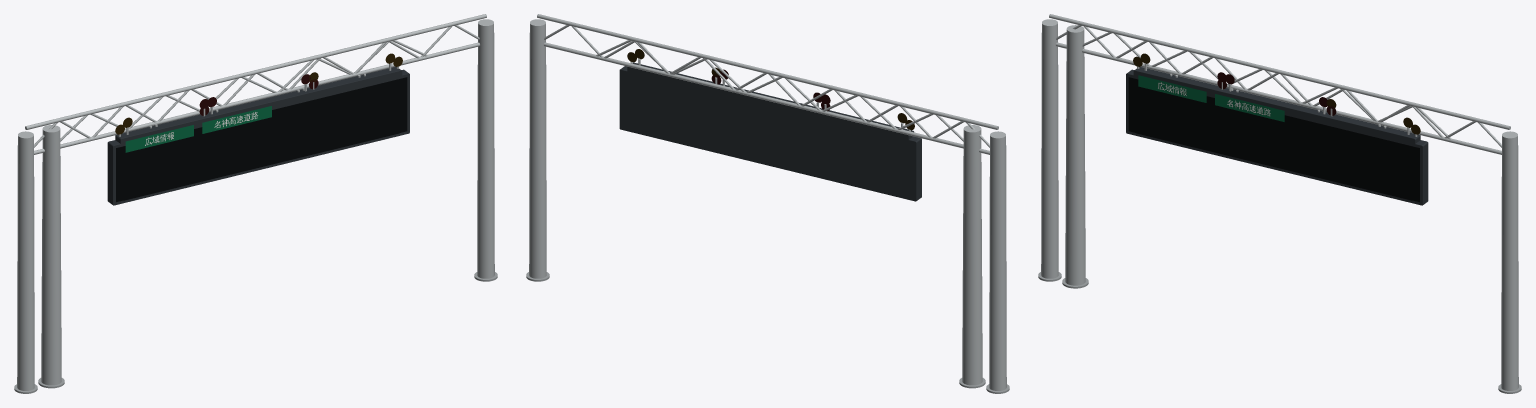
The picture shows the model from 3 angles, left to right: view 1: azimuth 30°, elevation 25°; view 2: azimuth 150°, elevation 25°; view 3: azimuth 330°, elevation 25°; orthographic projection.
Visible parts, largest first — view 1: opt_support_gantry, opt_support_cantilever, lamp_disp_accident_c, opt_size_k, lamp_disp_accident_k, lamp_disp_accident_a, lamp_disp_accident_b, opt_size_c, lamp_disp_accident_d, opt_size_b, opt_size_d; view 2: opt_size_k, opt_support_gantry, opt_support_cantilever, opt_size_c; view 3: opt_support_gantry, lamp_disp_accident_k, opt_support_cantilever, lamp_disp_accident_c, opt_size_k, lamp_disp_accident_a, lamp_disp_accident_b, opt_size_c, opt_size_b, lamp_disp_accident_d, opt_size_d.
Part boxes in pixels (x1=…): opt_support_gantry: x1=14, y1=14, x2=497, y2=393; opt_support_cantilever: x1=38, y1=28, x2=429, y2=388; lamp_disp_accident_c: x1=116, y1=77, x2=407, y2=202; opt_size_k: x1=115, y1=63, x2=402, y2=203; lamp_disp_accident_k: x1=123, y1=115, x2=399, y2=200; lamp_disp_accident_a: x1=200, y1=107, x2=322, y2=172; lamp_disp_accident_b: x1=200, y1=116, x2=322, y2=181; opt_size_c: x1=107, y1=66, x2=409, y2=205; lamp_disp_accident_d: x1=208, y1=137, x2=315, y2=177; opt_size_b: x1=198, y1=82, x2=324, y2=133; opt_size_d: x1=204, y1=84, x2=316, y2=132; opt_size_k: x1=627, y1=58, x2=913, y2=199; opt_support_gantry: x1=526, y1=14, x2=1009, y2=393; opt_support_cantilever: x1=594, y1=28, x2=985, y2=388; opt_size_c: x1=619, y1=62, x2=921, y2=201; opt_support_gantry: x1=1038, y1=14, x2=1521, y2=393; lamp_disp_accident_k: x1=1136, y1=98, x2=1412, y2=200; opt_support_cantilever: x1=1062, y1=21, x2=1451, y2=288; lamp_disp_accident_c: x1=1128, y1=77, x2=1419, y2=202; opt_size_k: x1=1133, y1=63, x2=1420, y2=203; lamp_disp_accident_a: x1=1213, y1=107, x2=1335, y2=171; lamp_disp_accident_b: x1=1213, y1=116, x2=1335, y2=181; opt_size_c: x1=1126, y1=66, x2=1428, y2=205; opt_size_b: x1=1211, y1=88, x2=1337, y2=121; lamp_disp_accident_d: x1=1220, y1=134, x2=1327, y2=178; opt_size_d: x1=1219, y1=84, x2=1331, y2=121.
Size of the model in its own units: 15.04 by 7.86 by 0.72.
72 materials, 4 textured.
